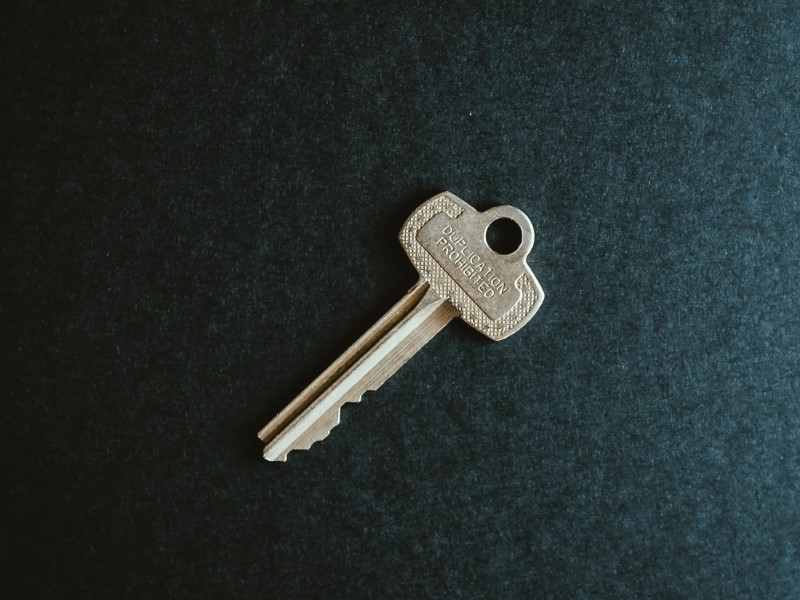key: (250, 187, 546, 466)
